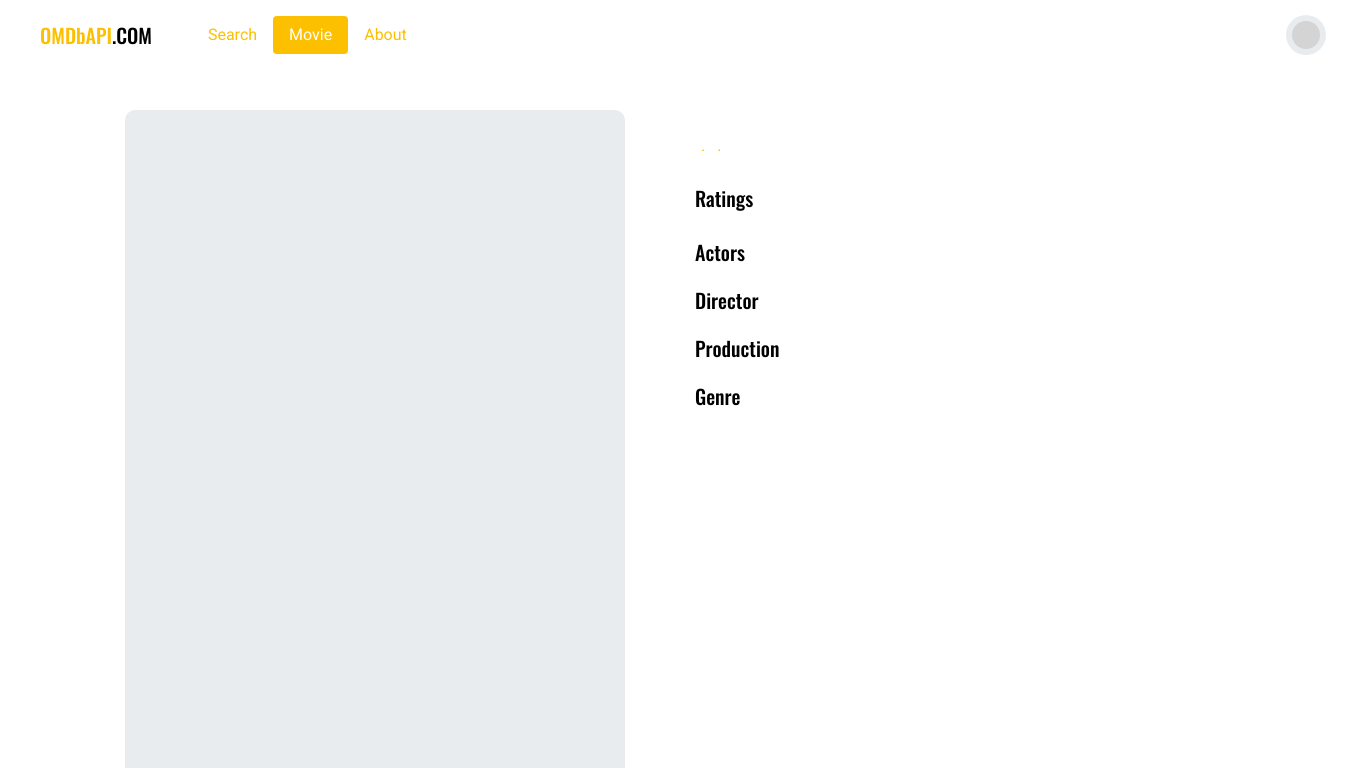
Scenario: About 페이지로 이동 › About 페이지로 이동합니다
// About 내비게이션 버튼 클릭!
What coordinates should you click on to do the following:
click the element with class "user"
I would click on:
 (1306, 35)
Its box is [1286, 15, 1326, 55].
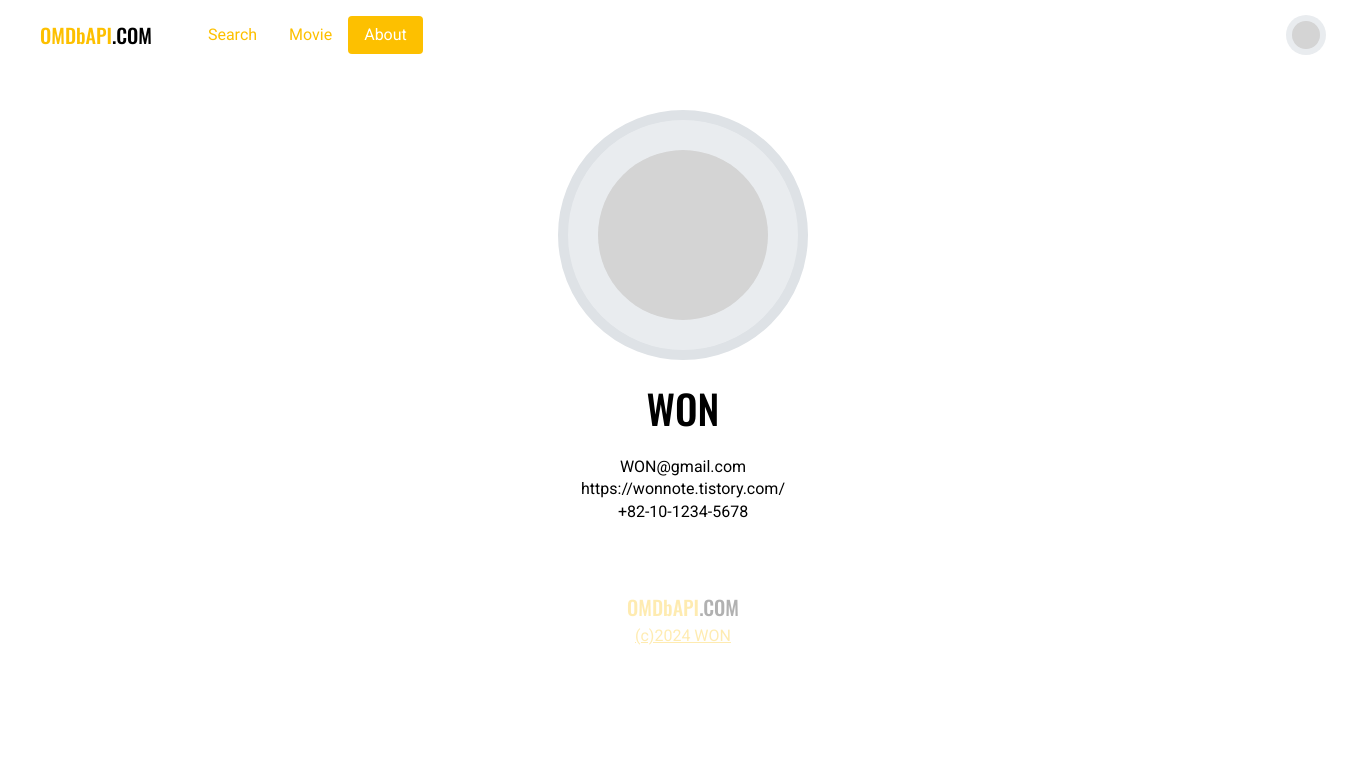
expect the link "About" is shown: met, box [348, 16, 423, 54]
expect the text "WON" is shown: met, box [647, 378, 719, 438]
